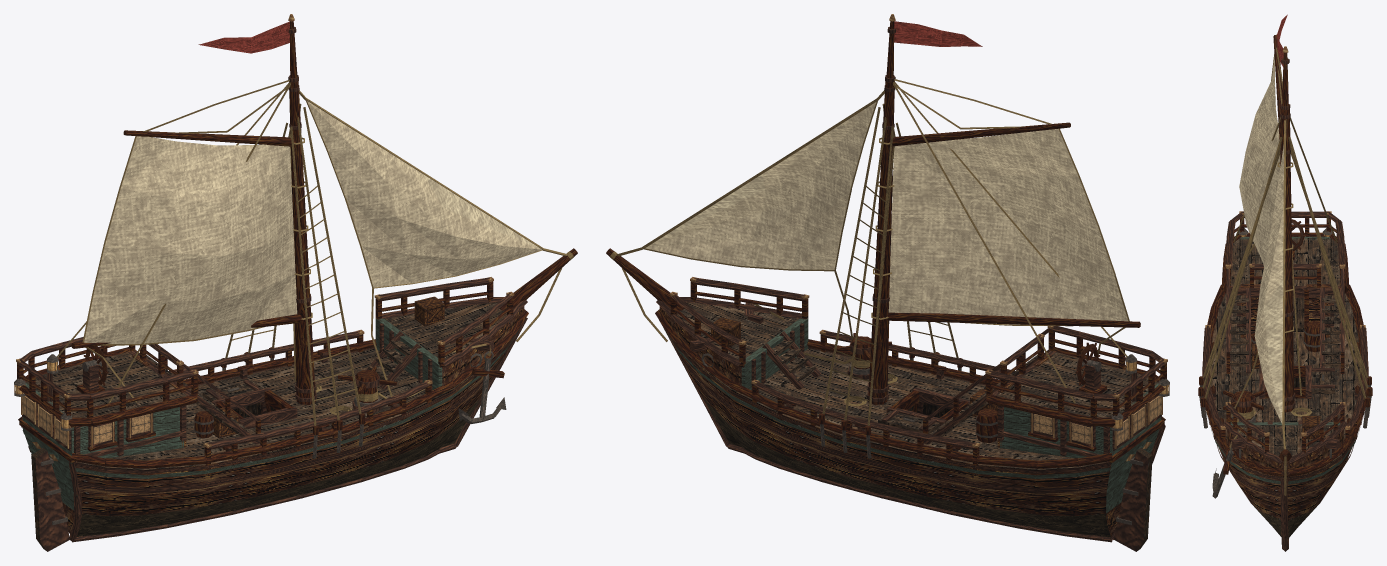
File: Chalupa.glb
The picture shows the model from 3 angles, left to right: view 1: azimuth 30°, elevation 25°; view 2: azimuth 150°, elevation 25°; view 3: azimuth 270°, elevation 25°; orthographic projection. The views are drawn at different scales.
Visible parts, largest first — view 1: Vela de carangueja, Vela de proa, Casco, Castelo de proa, Tombadilho, Convés principal, Cordame, Cabine do capitão, Mastro e vergas, Cintas do casco, Acessórios do convés, Borda do casco (+8 smaller); view 2: Vela de carangueja, Casco, Vela de proa, Tombadilho, Castelo de proa, Convés principal, Mastro e vergas, Cordame, Cabine do capitão, Cintas do casco, Acessórios do convés, Borda do casco (+8 smaller); view 3: Tombadilho, Convés principal, Cordame, Castelo de proa, Vela de proa, Vela de carangueja, Casco, Mastro e vergas, Acessórios do convés, Borda do casco, Cabine do capitão, Cintas do casco (+6 smaller).
Part boxes in pixels (x1=…): Vela de carangueja: x1=82, y1=136, x2=297, y2=345; Vela de proa: x1=305, y1=100, x2=542, y2=288; Casco: x1=72, y1=334, x2=515, y2=536; Castelo de proa: x1=366, y1=248, x2=577, y2=393; Tombadilho: x1=16, y1=337, x2=260, y2=444; Convés principal: x1=78, y1=339, x2=510, y2=469; Cordame: x1=56, y1=79, x2=566, y2=458; Cabine do capitão: x1=14, y1=355, x2=186, y2=466; Mastro e vergas: x1=71, y1=14, x2=316, y2=404; Cintas do casco: x1=21, y1=321, x2=523, y2=494; Acessórios do convés: x1=169, y1=296, x2=444, y2=469; Borda do casco: x1=18, y1=309, x2=528, y2=468; Vela de carangueja: x1=888, y1=128, x2=1129, y2=326; Casco: x1=668, y1=334, x2=1111, y2=538; Vela de proa: x1=644, y1=101, x2=877, y2=271; Tombadilho: x1=923, y1=326, x2=1167, y2=444; Castelo de proa: x1=606, y1=248, x2=821, y2=393; Convés principal: x1=673, y1=339, x2=1105, y2=469; Mastro e vergas: x1=867, y1=14, x2=1140, y2=404; Cordame: x1=616, y1=79, x2=1127, y2=458; Cabine do capitão: x1=997, y1=355, x2=1169, y2=466; Cintas do casco: x1=659, y1=320, x2=1110, y2=494; Acessórios do convés: x1=711, y1=317, x2=1014, y2=469; Borda do casco: x1=655, y1=309, x2=1165, y2=468; Tombadilho: x1=1221, y1=211, x2=1349, y2=373; Convés principal: x1=1210, y1=293, x2=1360, y2=477; Cordame: x1=1198, y1=47, x2=1372, y2=449; Castelo de proa: x1=1223, y1=402, x2=1347, y2=477; Vela de proa: x1=1254, y1=142, x2=1283, y2=424; Vela de carangueja: x1=1239, y1=54, x2=1280, y2=266; Casco: x1=1215, y1=435, x2=1355, y2=538; Mastro e vergas: x1=1273, y1=34, x2=1295, y2=412; Acessórios do convés: x1=1203, y1=321, x2=1367, y2=450; Borda do casco: x1=1202, y1=284, x2=1368, y2=476; Cabine do capitão: x1=1235, y1=228, x2=1335, y2=337; Cintas do casco: x1=1206, y1=412, x2=1364, y2=498.
Bounding box in the file's own units: 13.51 × 11.55 × 4.11.
Materials: 16 (16 with a texture image).
